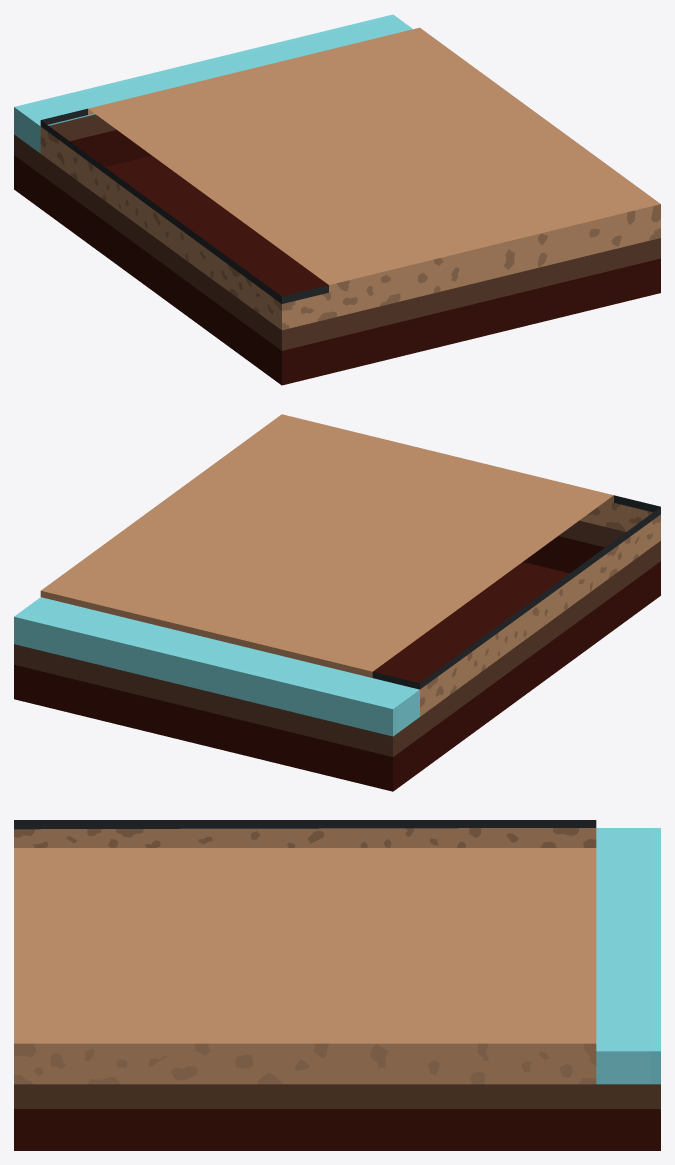
The picture shows the model from 3 angles, top to bottom: view 1: azimuth 30°, elevation 25°; view 2: azimuth 150°, elevation 25°; view 3: azimuth 270°, elevation 25°; orthographic projection. The views are drawn at different scales.
Visible parts, largest first — view 1: Cube.411; view 2: Cube.411; view 3: Cube.411.
Part boxes in pixels (x1,y1,x2,y2): Cube.411: (14, 14, 660, 385); Cube.411: (14, 414, 660, 791); Cube.411: (14, 820, 660, 1150).
Size of the model in its own units: 148 by 33.23 by 181.
1 material, 1 textured.
